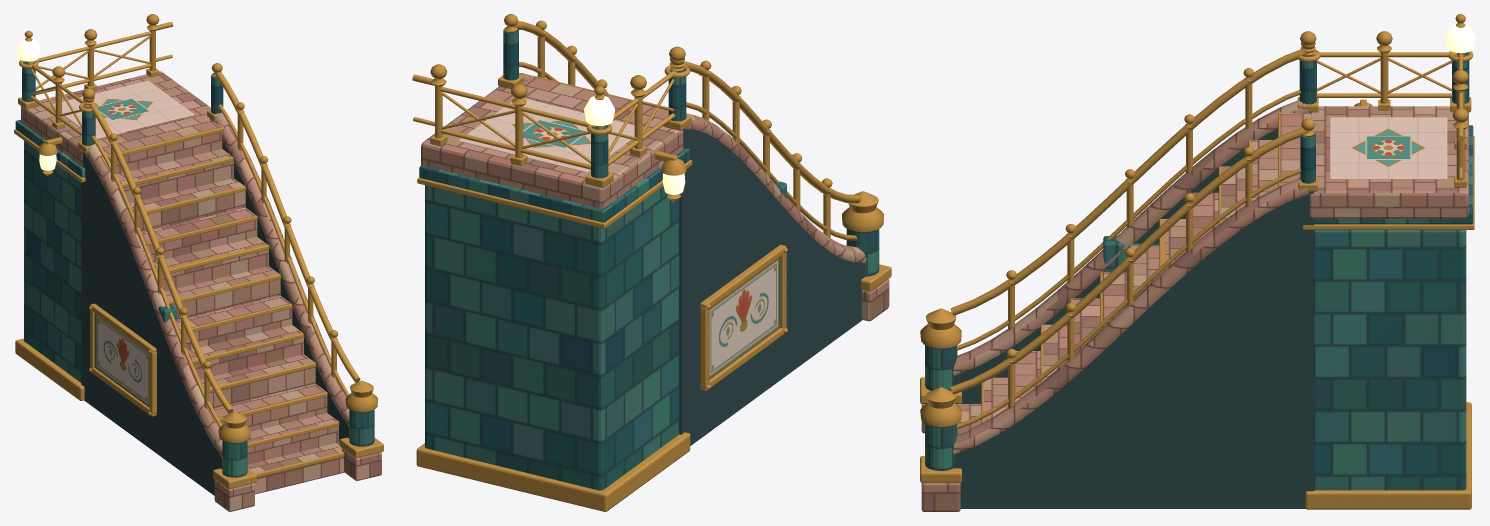
Rendered from act2_left_stairs_bl.glb.
3 views of the same model, side by side, from view 1: azimuth 30°, elevation 25°; view 2: azimuth 150°, elevation 25°; view 3: azimuth 270°, elevation 25° (orthographic). The views are drawn at different scales.
Visible parts, largest first — view 1: SM_Act2_LeftStairsBL_Mesh; view 2: SM_Act2_LeftStairsBL_Mesh; view 3: SM_Act2_LeftStairsBL_Mesh.
Part boxes in pixels (bbox=[...]): SM_Act2_LeftStairsBL_Mesh: bbox=[14, 14, 383, 511]; SM_Act2_LeftStairsBL_Mesh: bbox=[412, 14, 891, 511]; SM_Act2_LeftStairsBL_Mesh: bbox=[920, 14, 1475, 511].
Size of the model in its own units: 1.79 by 3.24 by 3.97.
Materials: 6 (5 with a texture image).
